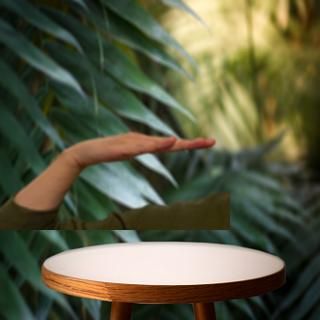WAIT: (65, 127, 221, 170)
